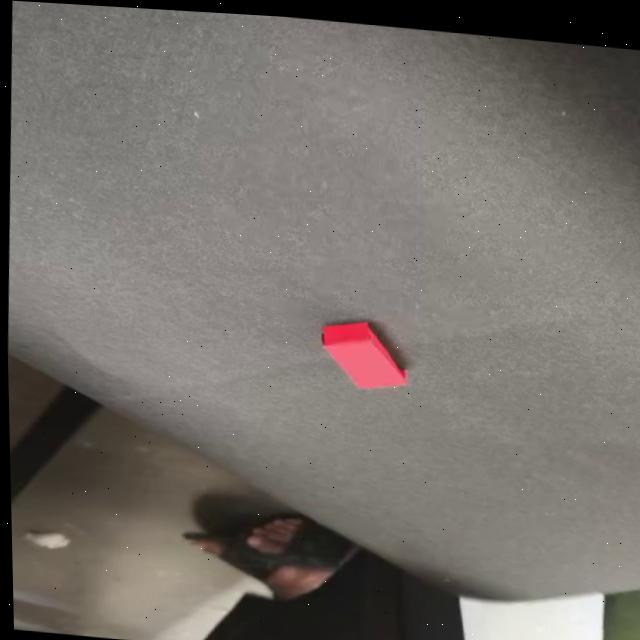red block: (315, 316, 408, 393)
